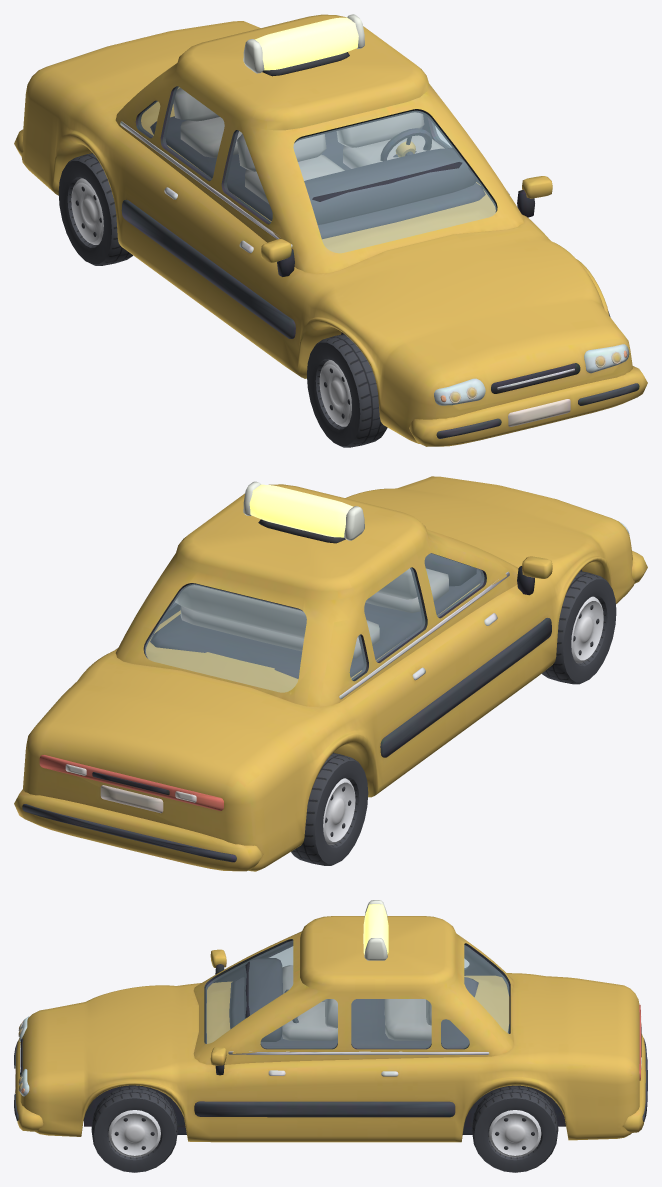
Rendered from 1990s-taxi.glb.
The picture shows the model from 3 angles, top to bottom: view 1: azimuth 30°, elevation 25°; view 2: azimuth 150°, elevation 25°; view 3: azimuth 270°, elevation 25°; orthographic projection. The views are drawn at different scales.
Parts seen in each view (by area): view 1: 1990s-taxi_body, 1990s-taxi_windows, 1990s-taxi_wheel_fr, 1990s-taxi_wheel_rr, 1990s-taxi_roof_sign; view 2: 1990s-taxi_body, 1990s-taxi_windows, 1990s-taxi_wheel_rr, 1990s-taxi_wheel_fr, 1990s-taxi_roof_sign; view 3: 1990s-taxi_body, 1990s-taxi_windows, 1990s-taxi_wheel_fl, 1990s-taxi_wheel_rl, 1990s-taxi_roof_sign.
Part boxes in pixels (bbox=[...]): 1990s-taxi_body: bbox=[14, 14, 647, 446]; 1990s-taxi_windows: bbox=[138, 86, 496, 252]; 1990s-taxi_wheel_fr: bbox=[307, 334, 387, 447]; 1990s-taxi_wheel_rr: bbox=[58, 153, 132, 265]; 1990s-taxi_roof_sign: bbox=[243, 14, 364, 76]; 1990s-taxi_body: bbox=[14, 476, 647, 871]; 1990s-taxi_windows: bbox=[145, 553, 484, 692]; 1990s-taxi_wheel_rr: bbox=[291, 753, 368, 865]; 1990s-taxi_wheel_fr: bbox=[541, 571, 616, 684]; 1990s-taxi_roof_sign: bbox=[243, 481, 364, 543]; 1990s-taxi_body: bbox=[14, 916, 647, 1142]; 1990s-taxi_windows: bbox=[206, 941, 508, 1048]; 1990s-taxi_wheel_fl: bbox=[91, 1086, 177, 1172]; 1990s-taxi_wheel_rl: bbox=[472, 1086, 558, 1172]; 1990s-taxi_roof_sign: bbox=[363, 900, 388, 960].
Size of the model in its own units: 1.94 by 1.74 by 4.83.
Materials: 5 (5 with a texture image).
